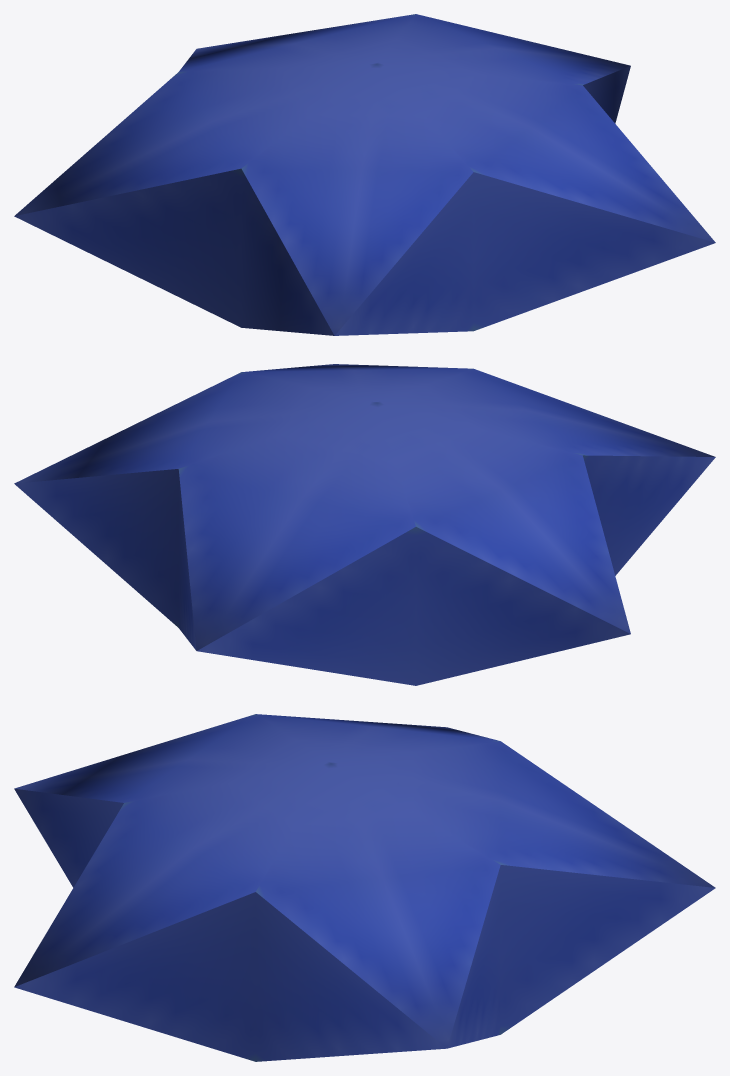
The model's file is Star_Light_C.fbx.
3 views of the same model, one above another, from view 1: azimuth 30°, elevation 25°; view 2: azimuth 150°, elevation 25°; view 3: azimuth 270°, elevation 25° (orthographic). The views are drawn at different scales.
Parts seen in each view (by area): view 1: Star_Light_C; view 2: Star_Light_C; view 3: Star_Light_C.
Part boxes in pixels (x1,y1,x2,y2): Star_Light_C: [14, 14, 715, 335]; Star_Light_C: [14, 364, 715, 685]; Star_Light_C: [14, 714, 715, 1061].
Size of the model in its own units: 21.43 by 7.73 by 19.77.
